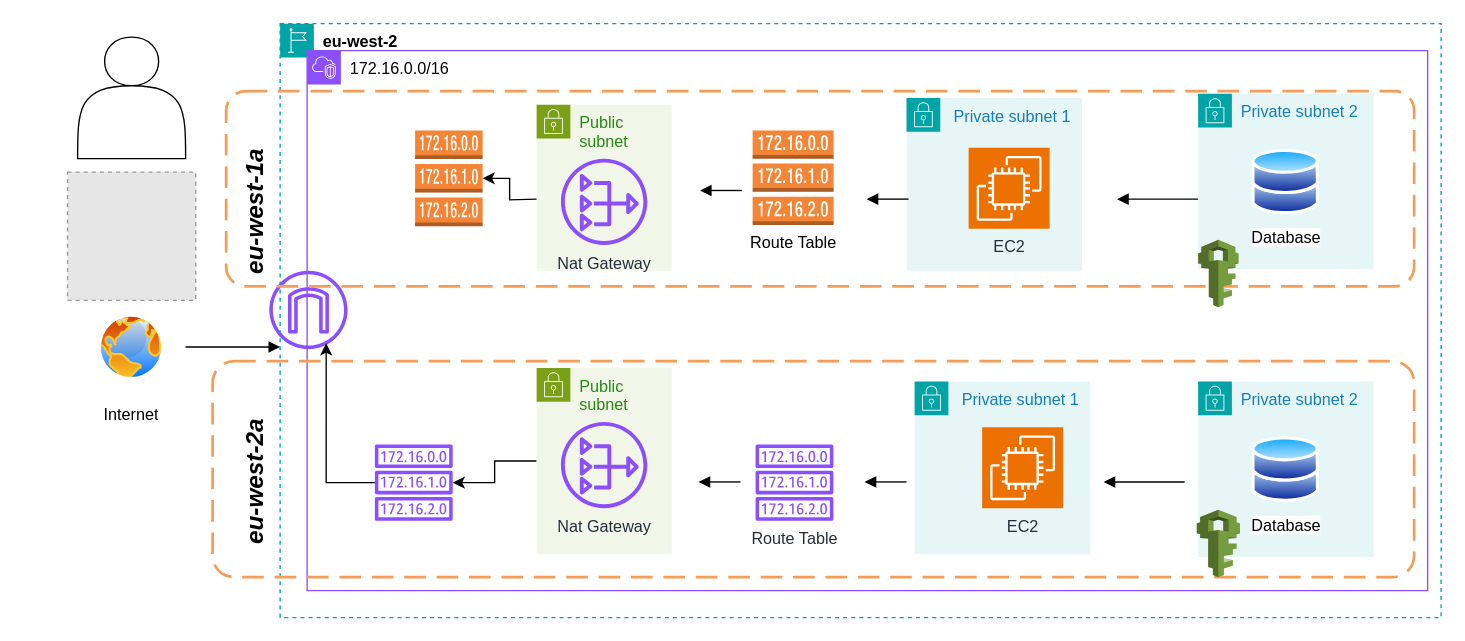
Some shapes in this 1465 by 641 pixel diagram are drawn without their labels. Grey dashed boxes stand in for pictures. Each missing label, with the centre of its shape:
Internet Gateway: (x=308, y=309)
www: (x=131, y=347)
